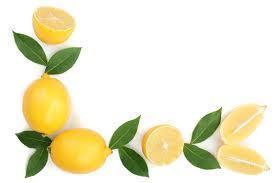lemon: (22, 74, 72, 136), (48, 128, 112, 174), (220, 104, 267, 144), (141, 124, 184, 164), (31, 6, 74, 44), (218, 144, 270, 175)
